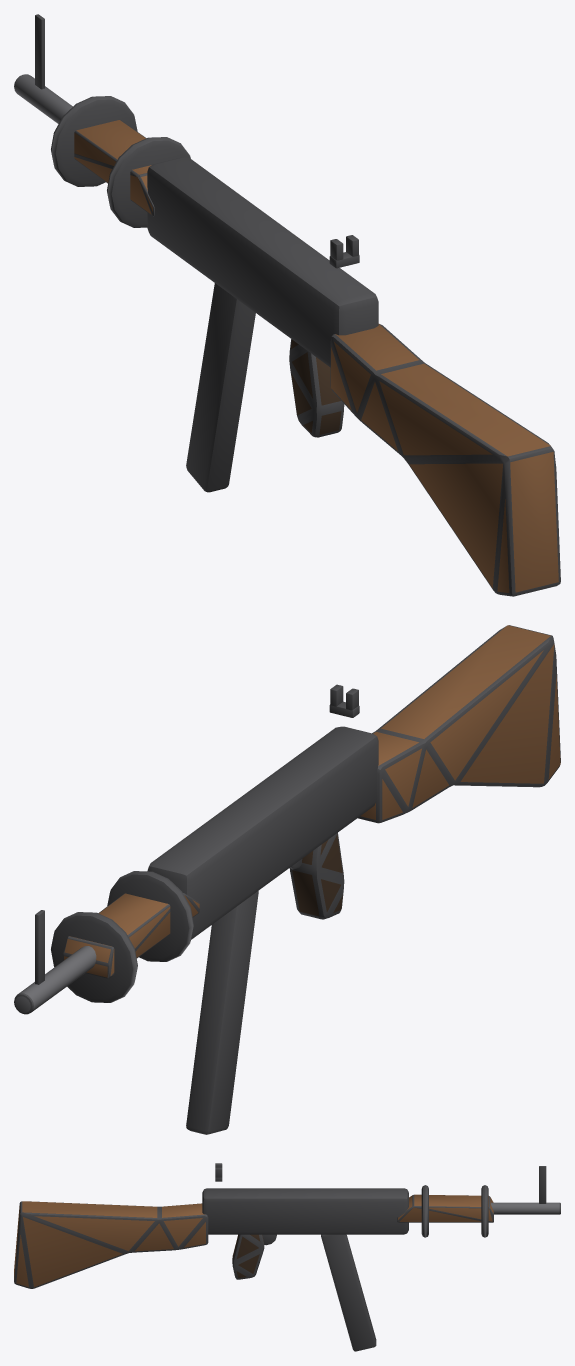
File: stg44.glb
The picture shows the model from 3 angles, top to bottom: view 1: azimuth 30°, elevation 25°; view 2: azimuth 150°, elevation 25°; view 3: azimuth 270°, elevation 25°; orthographic projection. The views are drawn at different scales.
Visible parts, largest first — view 1: stg44_LOD0; view 2: stg44_LOD0; view 3: stg44_LOD0.
Boxes of the visible parts, x1=… form: stg44_LOD0: x1=14, y1=14, x2=560, y2=596; stg44_LOD0: x1=14, y1=625, x2=560, y2=1134; stg44_LOD0: x1=14, y1=1163, x2=560, y2=1351.
Size of the model in its own units: 0.0868 by 0.3324 by 0.8997.
